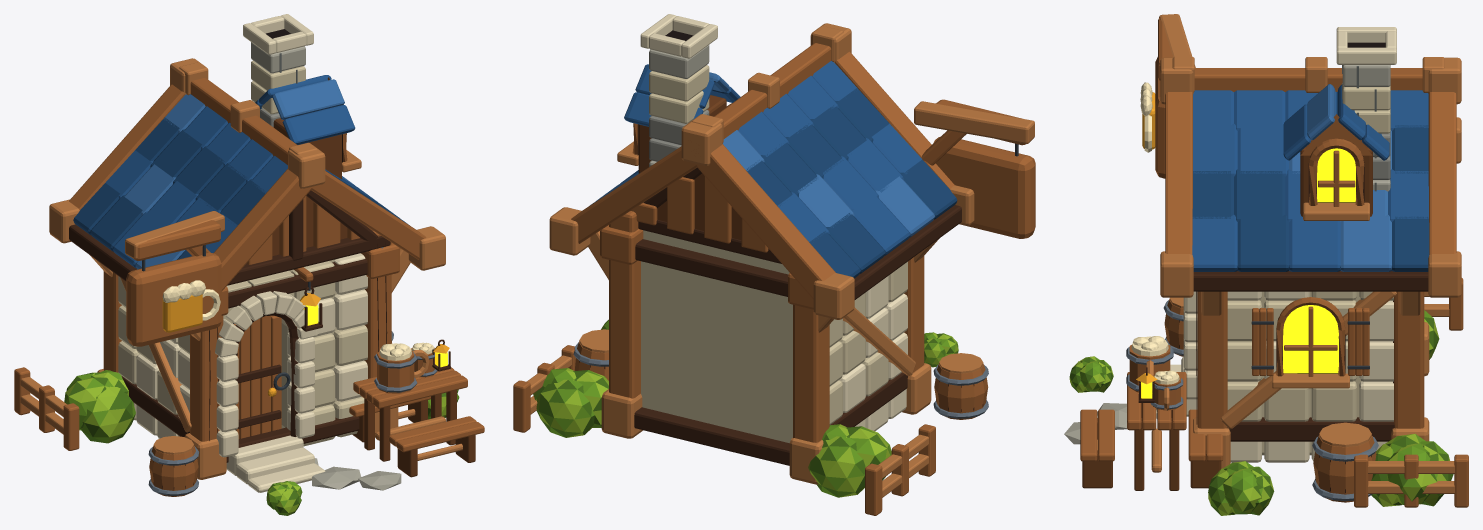
File: tavern.glb
3 views of the same model, side by side, from view 1: azimuth 30°, elevation 25°; view 2: azimuth 150°, elevation 25°; view 3: azimuth 270°, elevation 25° (orthographic). The views are drawn at different scales.
Visible parts, largest first — view 1: Carved hanging sign, Carved roof verge, Carved roof verge.002, Corner upright, Carved roof verge.001, Gable tie beam, Ridge timber, Leaf cluster.004, Wall cross beam.002, Corner upright.002, Soft edged blue roof tile.042, Soft edged blue roof tile.041 (+80 smaller); view 2: Cottage walls, Carved hanging sign, Carved roof verge.001, Corner upright.003, Corner upright.001, Wall cross beam.001, Carved roof verge.003, Wall cross beam.003, Tavern sign cantilever, Ridge timber, Leaf cluster.007, Leaf cluster.011 (+64 smaller); view 3: Roof eave.001, Carved roof verge.003, Carved roof verge.002, Corner upright.003, Corner upright.002, Ridge timber, Warm arched window.001, Soft edged blue roof tile.037, Soft edged blue roof tile.039, Soft edged blue roof tile.038, Side wall lower tie.001, Soft edged blue roof tile.036 (+86 smaller).
Boxes of the visible parts, bbox=[...] form: Carved hanging sign: bbox=[126, 252, 221, 346]; Carved roof verge: bbox=[213, 169, 312, 291]; Carved roof verge.002: bbox=[311, 171, 426, 259]; Corner upright: bbox=[190, 315, 223, 441]; Carved roof verge.001: bbox=[69, 84, 184, 209]; Gable tie beam: bbox=[227, 236, 390, 285]; Ridge timber: bbox=[190, 78, 297, 164]; Leaf cluster.004: bbox=[81, 386, 135, 443]; Wall cross beam.002: bbox=[228, 259, 367, 308]; Corner upright.002: bbox=[364, 231, 391, 378]; Soft edged blue roof tile.042: bbox=[282, 105, 355, 144]; Soft edged blue roof tile.041: bbox=[272, 79, 344, 119]; Cottage walls: bbox=[641, 230, 792, 443]; Carved hanging sign: bbox=[933, 136, 1035, 238]; Carved roof verge.001: bbox=[695, 144, 835, 299]; Corner upright.003: bbox=[609, 211, 640, 398]; Corner upright.001: bbox=[793, 304, 829, 442]; Wall cross beam.001: bbox=[634, 407, 789, 465]; Carved roof verge.003: bbox=[571, 146, 696, 243]; Wall cross beam.003: bbox=[635, 239, 788, 296]; Tavern sign cantilever: bbox=[914, 101, 1034, 143]; Ridge timber: bbox=[698, 43, 831, 153]; Leaf cluster.007: bbox=[808, 436, 865, 497]; Leaf cluster.011: bbox=[536, 379, 594, 437]; Roof eave.001: bbox=[1193, 271, 1428, 291]; Carved roof verge.003: bbox=[1428, 92, 1456, 254]; Carved roof verge.002: bbox=[1165, 92, 1192, 254]; Corner upright.003: bbox=[1394, 291, 1424, 428]; Corner upright.002: bbox=[1197, 291, 1227, 428]; Ridge timber: bbox=[1194, 68, 1422, 91]; Warm arched window.001: bbox=[1283, 305, 1338, 373]; Soft edged blue roof tile.037: bbox=[1237, 214, 1288, 271]; Soft edged blue roof tile.039: bbox=[1340, 215, 1391, 271]; Soft edged blue roof tile.038: bbox=[1289, 216, 1340, 271]; Side wall lower tie.001: bbox=[1227, 417, 1394, 441]; Soft edged blue roof tile.036: bbox=[1192, 214, 1237, 271].
Bounding box in the file's own units: 4.25 × 4.2 × 3.63.
